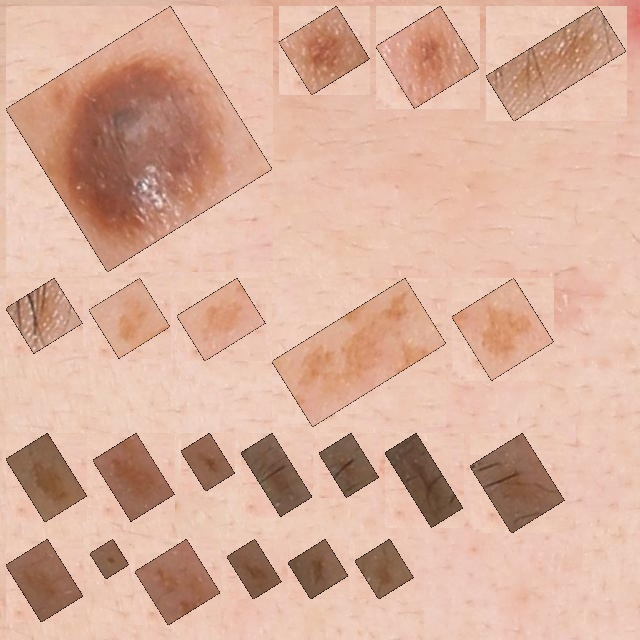melasma: (283, 289, 435, 415), (497, 17, 615, 110), (463, 289, 543, 369), (481, 444, 553, 522), (396, 444, 452, 516), (146, 550, 209, 614), (188, 289, 254, 350), (17, 444, 76, 511), (104, 444, 163, 510), (100, 289, 159, 347), (17, 550, 72, 611), (252, 444, 301, 505), (17, 289, 71, 342), (330, 444, 368, 486), (299, 550, 337, 588), (366, 550, 403, 588), (238, 550, 270, 588), (192, 444, 224, 480), (101, 550, 118, 568)
nevus: (17, 17, 261, 261), (387, 17, 468, 97), (290, 17, 358, 84)
